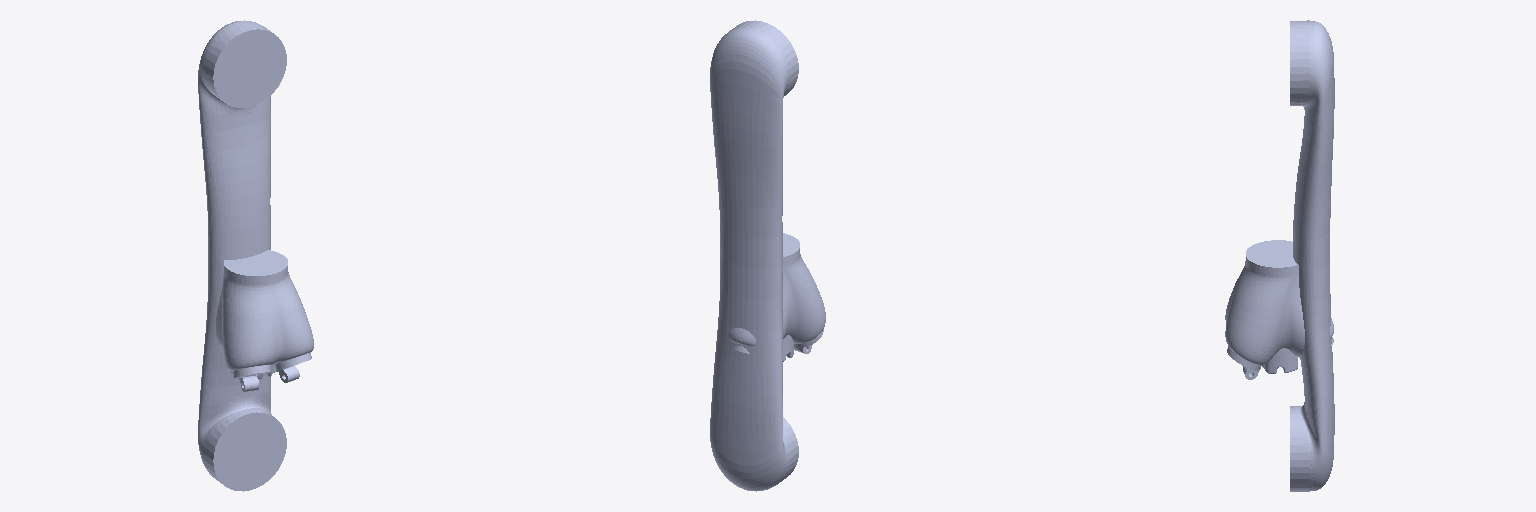
URDF robot description (kinova):
<?xml version="1.0" ?>
<!-- =================================================================================== -->
<!-- |    This document was autogenerated by xacro from [local-path]/rsl_vt/catkin_ws/src/kinova_common/kinova_description/urdf/kinova.urdf.xacro | -->
<!-- |    EDITING THIS FILE BY HAND IS NOT RECOMMENDED                                 | -->
<!-- =================================================================================== -->
<!-- j2s6_3 refers to jaco v2 6DOF spherical 3fingers -->
<robot name="kinova">

  <link name="world"/>

  <!-- Base link -->
  <link name="kinova_link_base">
    <visual>
      <geometry>
        <mesh filename="../meshes/base.dae"/>
      </geometry>
      <material name="carbon_fiber">
        <color rgba="0.792156862745098 0.819607843137255 0.933333333333333 1"/>
      </material>
    </visual>
  </link>

  <joint name="kinova_joint_base" type="fixed">
    <parent link="world"/>
    <child link="kinova_link_base"/>
    <origin rpy="0 0 0" xyz="0 0 0"/>
  </joint>

  <!-- Fixed joint to add dummy inertia link -->
  <joint name="kinova_link_base_to_kinova_link_base_inertia" type="fixed">
    <parent link="kinova_link_base"/>
    <child link="kinova_link_base_inertia"/>
    <origin rpy="0 0 0" xyz="0 0 0"/>
  </joint>

  <!-- Dummy inertia link, because KDL cannot have inertia on the base link -->
  <link name="kinova_link_base_inertia">
    <inertial>
      <mass value="0.46784"/>
      <origin rpy="0 0 0" xyz="0 0 0.1255"/>
      <inertia ixx="0.000951270861568" ixy="0" ixz="0" iyy="0.000951270861568" iyz="0" izz="0.000374272"/>
    </inertial>
  </link>

  <link name="kinova_link_1">
    <visual>
      <geometry>
        <mesh filename="../meshes/shoulder.dae"/>
      </geometry>
      <material name="carbon_fiber">
        <color rgba="0.792156862745098 0.819607843137255 0.933333333333333 1"/>
      </material>
    </visual>
    <visual>
      <geometry>
        <mesh filename="../meshes/ring_big.STL"/>
      </geometry>
    </visual>
    <inertial>
      <mass value="0.7477"/>
      <origin xyz="0 -0.002 -0.0605"/>
      <inertia ixx="0.00152031725204" ixy="0" ixz="0" iyy="0.00152031725204" iyz="0" izz="0.00059816"/>
    </inertial>
  </link>

  <joint name="kinova_joint_1" type="revolute">
    <parent link="kinova_link_base"/>
    <child link="kinova_link_1"/>
    <axis xyz="0 0 1"/>
    <limit effort="30.5" lower="-62.8318530718" upper="62.8318530718" velocity="15"/>
    <origin rpy="0 3.14159265359 0" xyz="0 0 0.15675"/>
    <dynamics damping="0.0" friction="0.0"/>
  </joint>

  <link name="kinova_link_2">
    <visual>
      <geometry>
        <mesh filename="../meshes/arm.dae"/>
      </geometry>
      <material name="carbon_fiber">
        <color rgba="0.792156862745098 0.819607843137255 0.933333333333333 1"/>
      </material>
    </visual>
    <visual>
      <geometry>
        <mesh filename="../meshes/ring_big.STL"/>
      </geometry>
    </visual>
    <inertial>
      <mass value="0.99"/>
      <origin xyz="0 -0.2065 -0.01"/>
      <inertia ixx="0.010502207991" ixy="0" ixz="0" iyy="0.000792" iyz="0" izz="0.010502207991"/>
    </inertial>
  </link>

  <joint name="kinova_joint_2" type="revolute">
    <parent link="kinova_link_1"/>
    <child link="kinova_link_2"/>
    <axis xyz="0 0 1"/>
    <limit effort="30.5" lower="-62.8318530718" upper="62.8318530718" velocity="15"/>
    <!-- limit effort also defines torque limit and freeze controller gains -->
    <origin rpy="-1.57079632679 0 3.14159265359" xyz="0 0.0016 -0.11875"/>
    <dynamics damping="0.0" friction="0.0"/>
  </joint>

  <link name="kinova_link_3">
    <visual>
      <geometry>
        <mesh filename="../meshes/forearm.dae"/>
      </geometry>
      <material name="carbon_fiber">
        <color rgba="0.792156862745098 0.819607843137255 0.933333333333333 1"/>
      </material>
    </visual>
    <visual>
      <geometry>
        <mesh filename="../meshes/ring_big.STL"/>
      </geometry>
    </visual>
    <inertial>
      <mass value="0.6763"/>
      <origin xyz="0 0.081 -0.0086"/>
      <inertia ixx="0.00142022431908" ixy="0" ixz="0" iyy="0.000304335" iyz="0" izz="0.00142022431908"/>
    </inertial>
  </link>

  <joint name="kinova_joint_3" type="revolute">
    <parent link="kinova_link_2"/>
    <child link="kinova_link_3"/>
    <axis xyz="0 0 1"/>
    <limit effort="30.5" lower="-62.8318530718" upper="62.8318530718" velocity="15"/>
    <!-- limit effort also defines torque limit and freeze controller gains -->
    <origin rpy="0 3.14159265359 0" xyz="0 -0.410 0"/>
    <dynamics damping="0.0" friction="0.0"/>
  </joint>

  <link name="kinova_link_4">
    <visual>
      <geometry>
        <mesh filename="../meshes/wrist_spherical_1.dae"/>
      </geometry>
      <material name="carbon_fiber">
        <color rgba="0.792156862745098 0.819607843137255 0.933333333333333 1"/>
      </material>
    </visual>
    <visual>
      <geometry>
        <mesh filename="../meshes/ring_small.STL"/>
      </geometry>
    </visual>
    --&gt;

    <inertial>
      <mass value="0.463"/>
      <origin xyz="0 0.0028848942 -0.0541932613"/>
      <inertia ixx="0.0004321316048" ixy="0" ixz="0" iyy="0.0004321316048" iyz="0" izz="9.26e-05"/>
    </inertial>
  </link>

  <joint name="kinova_joint_4" type="revolute">
    <parent link="kinova_link_3"/>
    <child link="kinova_link_4"/>
    <axis xyz="0 0 1"/>
    <limit effort="6.8" lower="-62.8318530718" upper="6.28318530718" velocity="15"/>
    <!-- limit effort also defines torque limit and freeze controller gains -->
    <origin rpy="-1.57079632679 0 3.14159265359" xyz="0 0.2073 -0.0114"/>
    <dynamics damping="0.0" friction="0.0"/>
  </joint>

  <link name="kinova_link_5">
    <visual>
      <geometry>
        <mesh filename="../meshes/wrist_spherical_2.dae"/>
      </geometry>
      <material name="carbon_fiber">
        <color rgba="0.792156862745098 0.819607843137255 0.933333333333333 1"/>
      </material>
    </visual>
    <visual>
      <geometry>
        <mesh filename="../meshes/ring_small.STL"/>
      </geometry>
    </visual>
    --&gt;

    <inertial>
      <mass value="0.463"/>
      <origin xyz="0 0.0497208855 -0.0028562765"/>
      <inertia ixx="0.0004321316048" ixy="0" ixz="0" iyy="9.26e-05" iyz="0" izz="0.0004321316048"/>
    </inertial>
  </link>

  <joint name="kinova_joint_5" type="revolute">
    <parent link="kinova_link_4"/>
    <child link="kinova_link_5"/>
    <axis xyz="0 0 1"/>
    <limit effort="6.8" lower="-6.28318530718" upper="62.8318530718" velocity="15"/>
    <!-- limit effort also defines torque limit and freeze controller gains -->
    <origin rpy="1.57079632679 0 3.14159265359" xyz="0 0 -0.10375"/>
    <dynamics damping="0.0" friction="0.0"/>
  </joint>

  <link name="kinova_link_6">
    <visual>
      <geometry>
        <mesh filename="../meshes/hand_3finger.dae"/>
      </geometry>
      <material name="carbon_fiber">
        <color rgba="0.792156862745098 0.819607843137255 0.933333333333333 1"/>
      </material>
    </visual>
    <visual>
      <geometry>
        <mesh filename="../meshes/ring_small.STL"/>
      </geometry>
    </visual>
    <inertial>
      <mass value="1.327"/>
      <!-- 0.927 is original mass without additional force sensor -->
      <origin xyz="0 0 -0.06"/>
      <inertia ixx="0.0004403232387" ixy="0" ixz="0" iyy="0.0004403232387" iyz="0" izz="0.0007416"/>
    </inertial>
  </link>

  <joint name="kinova_joint_6" type="revolute">
    <parent link="kinova_link_5"/>
    <child link="kinova_link_6"/>
    <axis xyz="0 0 1"/>
    <limit effort="6.8" lower="-62.8318530718" upper="62.8318530718" velocity="15"/>
    <!-- limit effort also defines torque limit and freeze controller gains -->
    <origin rpy="-1.57079632679 0 3.14159265359" xyz="0 0.10375 0"/>
    <dynamics damping="0.0" friction="0.0"/>
  </joint>

  <link name="kinova_end_effector">
    <!-- Inertial properties and a fixed revolute joint have been added to this link to make it possible to use the gazebo_link_attacher plugin -->
    <!-- Minor collision properties are added to avoid bug/crash when running model in Gazebo -->
    <visual>
      <geometry>
        <box size="0.0001 0.0001 0.0001"/>
      </geometry>
    </visual>
    <inertial>
      <origin rpy="0 0 0" xyz="0.0 0.0 0.0"/>
      <mass value="0.01"/>
      <inertia ixx="0.01" ixy="0" ixz="0" iyy="0.01" iyz="0" izz="0.01"/>
    </inertial>
  </link>

  <joint name="kinova_joint_end_effector" type="fixed">
    <parent link="kinova_link_6"/>
    <child link="kinova_end_effector"/>
    <axis xyz="0 0 0"/>
    <limit effort="2000" lower="0" upper="0" velocity="1"/>
    <origin rpy="3.14159265359 0 0" xyz="0 0 -0.1600"/>
  </joint>
</robot>

--- Facts derived from the render (not from the file) ---
Views: 3 orthographic renders of the robot side by side, from view 1: azimuth 30°, elevation 25°; view 2: azimuth 150°, elevation 25°; view 3: azimuth 270°, elevation 25°.
Robot: kinova — 10 links, 9 joints (6 revolute, 3 fixed); root link world; default pose: every joint at zero.
Visible links, largest first — view 1: kinova_link_2, kinova_link_6; view 2: kinova_link_2, kinova_link_6; view 3: kinova_link_2, kinova_link_6.
Boxes of the visible links, box(x1,y1,x2,y2) form: kinova_link_2: box(198, 20, 286, 491); kinova_link_6: box(216, 250, 313, 391); kinova_link_2: box(710, 20, 798, 491); kinova_link_6: box(729, 233, 825, 361); kinova_link_2: box(1290, 20, 1334, 491); kinova_link_6: box(1225, 240, 1333, 379).
Size in the robot's own frame: 0.0927 by 0.1052 by 0.4925 metres.
2 mesh visuals loaded from 9 distinct referenced files (2 Collada DAE); not drawn: 11 (reference not matched to a file when rendering).